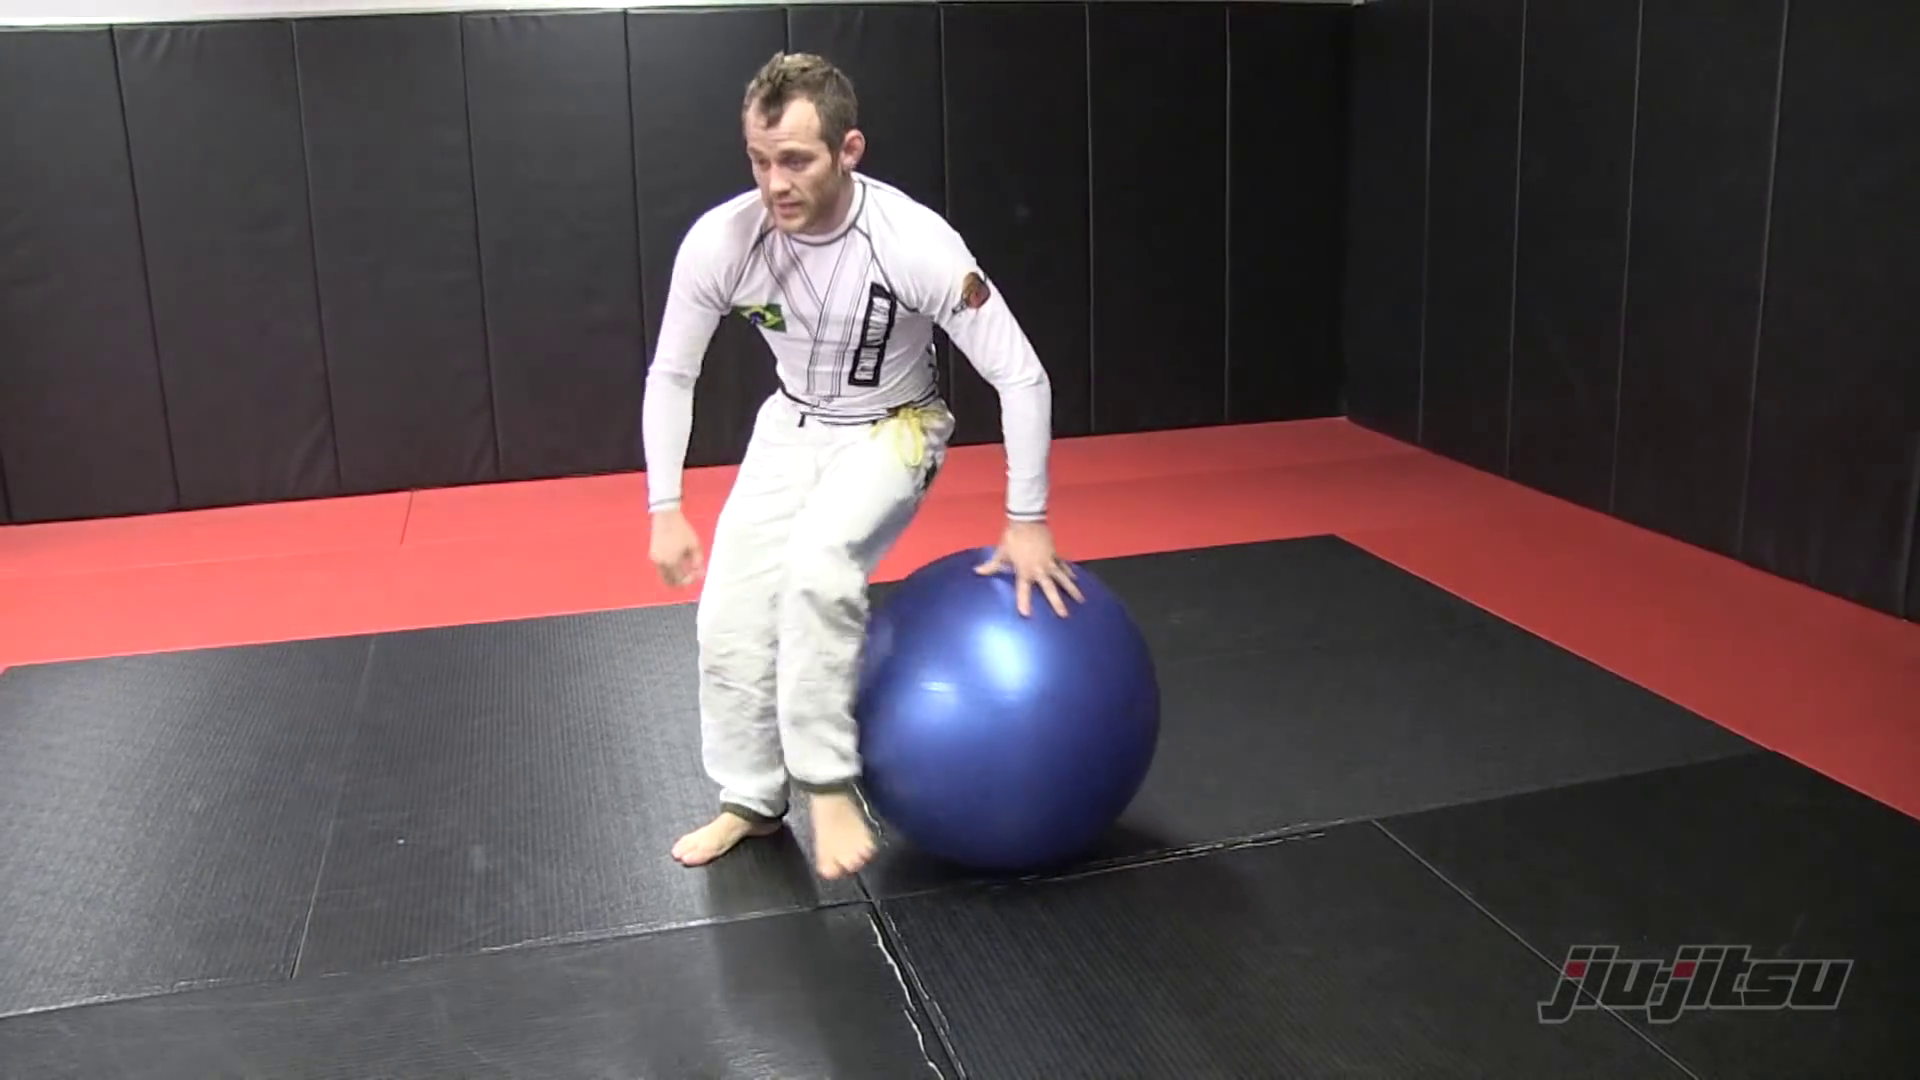yogaball: (837, 527, 1184, 903)
